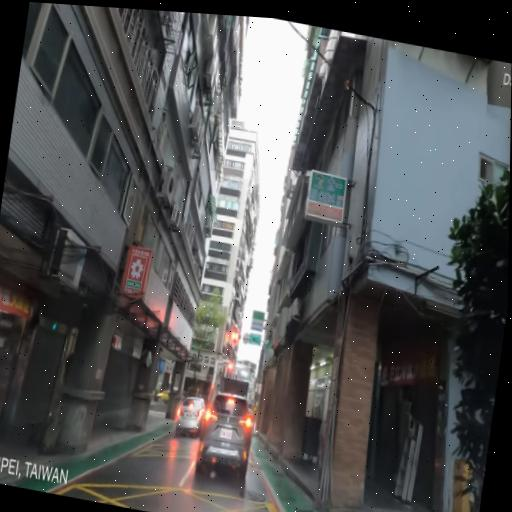Car: (195, 385, 258, 477), (212, 373, 252, 453), (173, 388, 209, 443), (154, 383, 186, 411)
